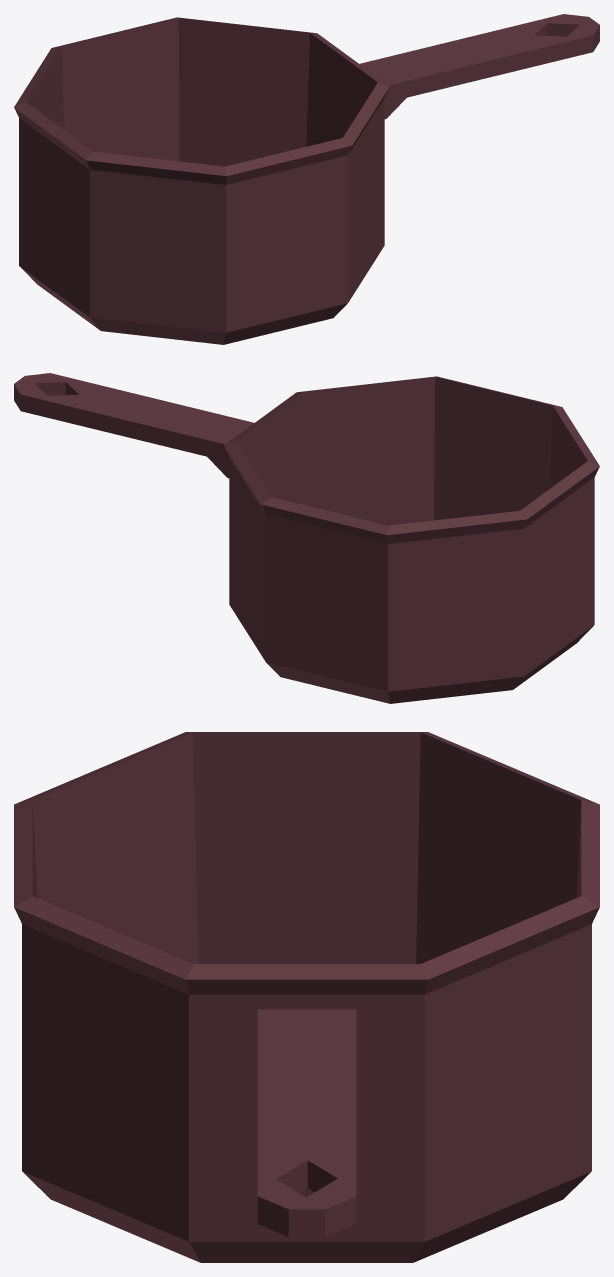
The model's file is dishes-pot-small.glb.
3 views of the same model, one above another, from view 1: azimuth 30°, elevation 25°; view 2: azimuth 150°, elevation 25°; view 3: azimuth 270°, elevation 25° (orthographic). The views are drawn at different scales.
Visible parts, largest first — view 1: pot-small; view 2: pot-small; view 3: pot-small.
Part boxes in pixels (x1,y1,x2,y2): pot-small: (14,14,599,344); pot-small: (14,373,599,703); pot-small: (14,732,599,1262).
Bounding box in the file's own units: 0.2511 × 0.0808 × 0.14.
